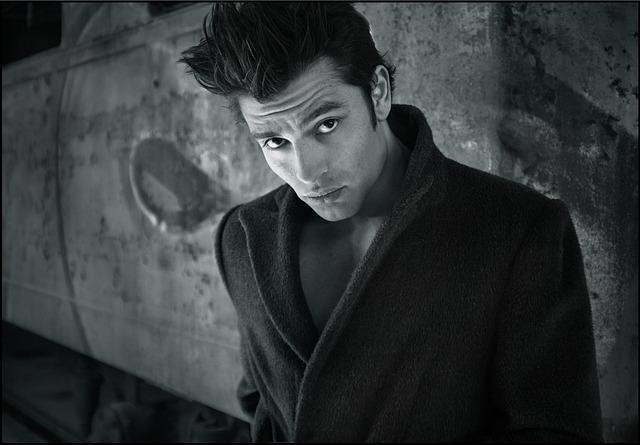Non_Gorille: (192, 0, 532, 445)
